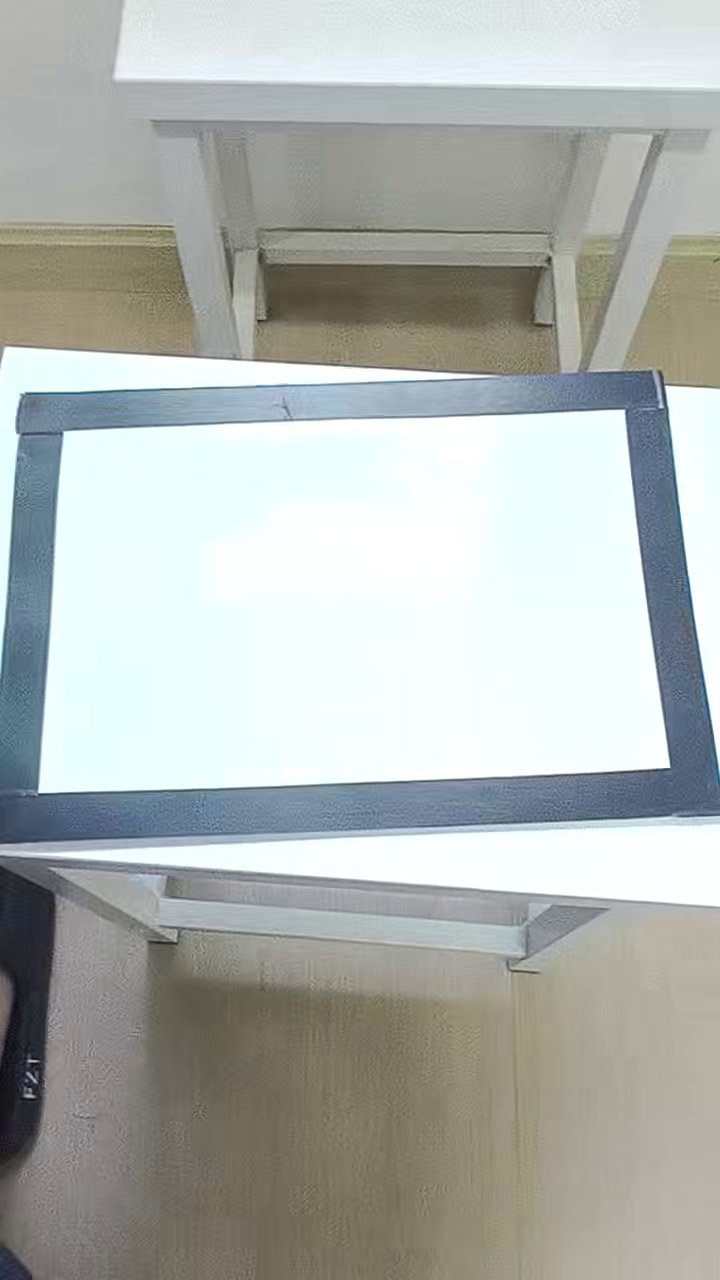board: (19, 367, 705, 837)
